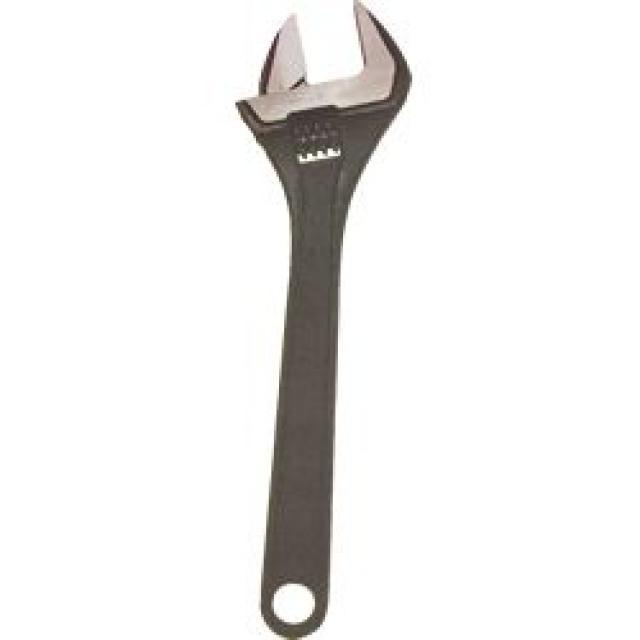wrench: (227, 0, 421, 640)
